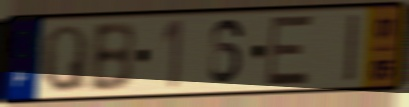1: (158, 17, 185, 94)
6: (208, 16, 245, 90)
B: (87, 19, 138, 95)
E: (263, 13, 316, 89)
I: (344, 11, 362, 86)
Q: (40, 22, 90, 95)
